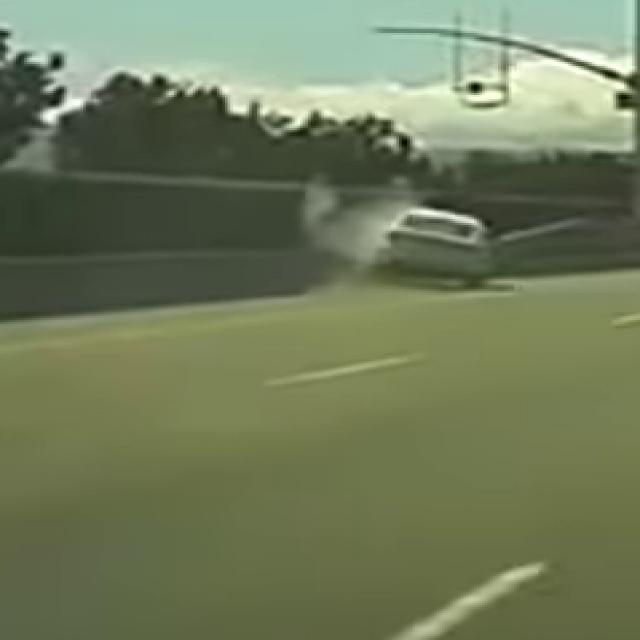accident: (338, 196, 507, 296)
